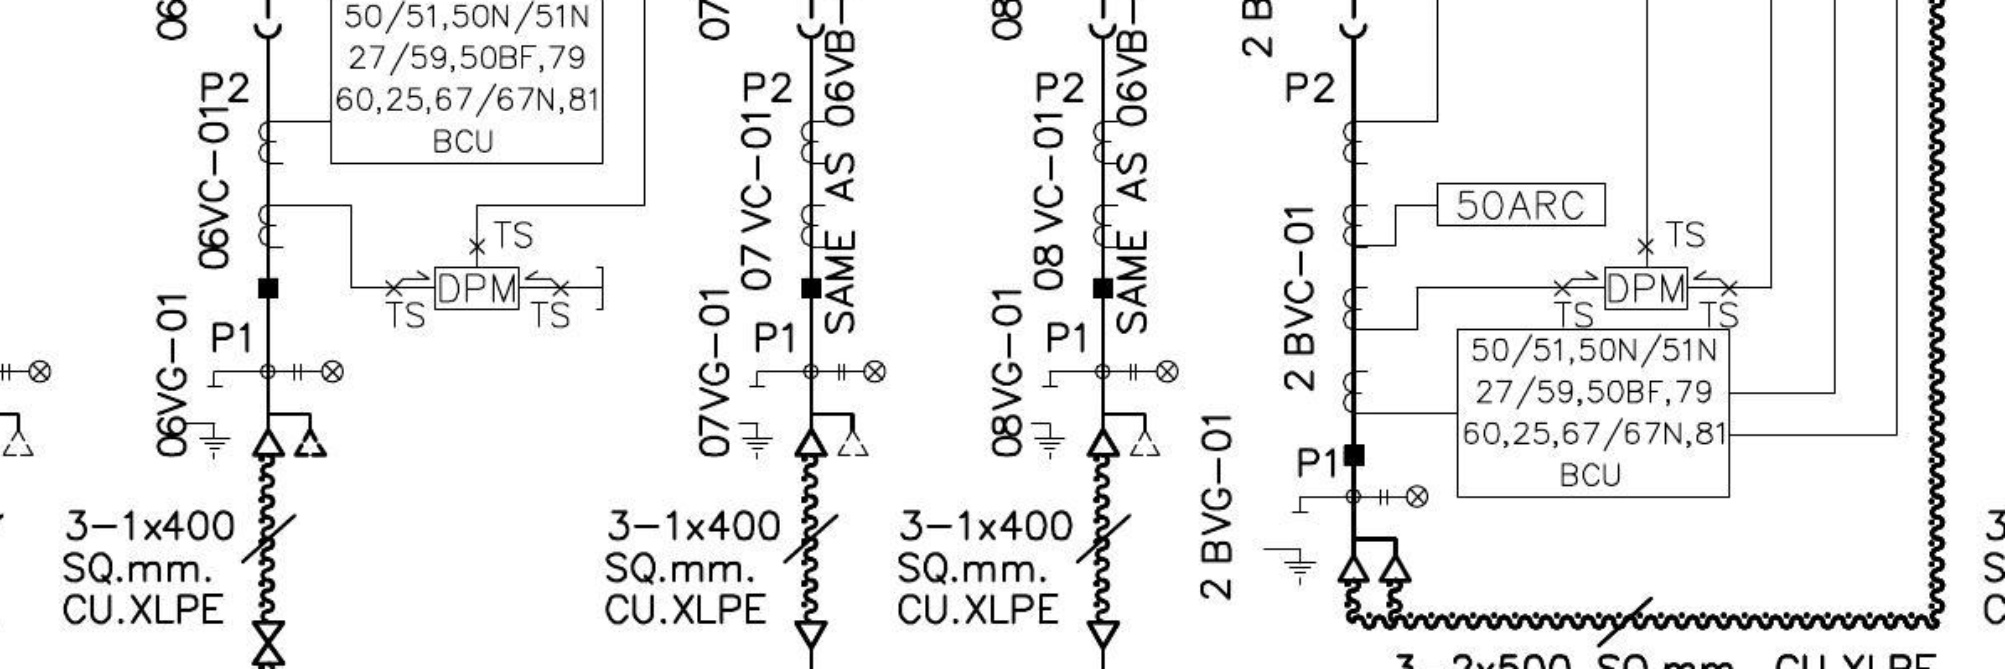22_gs: (1263, 508, 1318, 585), (185, 384, 231, 460), (737, 384, 776, 460), (1027, 385, 1066, 460)
22_ll: (1127, 359, 1180, 385), (836, 358, 889, 384), (1378, 484, 1431, 509), (292, 359, 345, 384)
DPM: (432, 265, 522, 312), (1602, 265, 1690, 312)
terminator_double: (1335, 535, 1414, 583)
terminator_single: (1084, 618, 1123, 651), (792, 618, 830, 650)
terminator_splicing_kits: (251, 620, 286, 666)
terminator_w_future: (249, 411, 329, 459), (793, 409, 872, 458), (1084, 411, 1164, 459)
